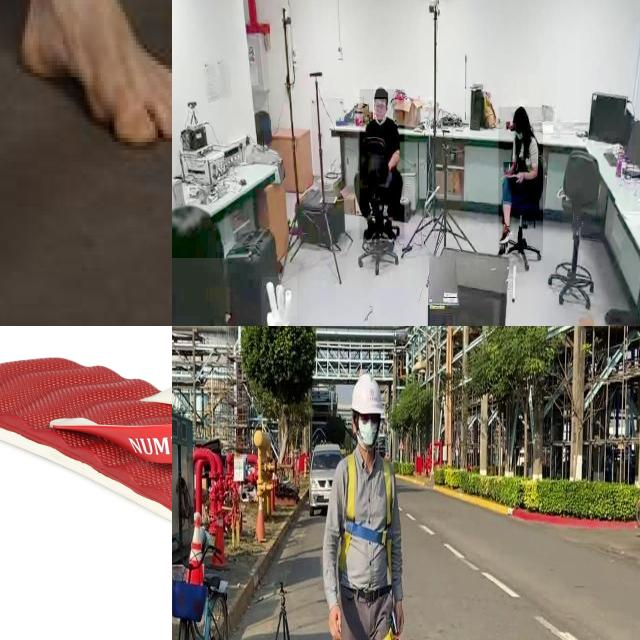Barefoots: (22, 0, 172, 145)
Harness: (340, 454, 394, 572)
Sandals: (0, 355, 172, 561)
face_nomask: (373, 99, 387, 120)
hand_glove: (261, 276, 296, 326)
hand_noglove: (514, 170, 526, 184), (504, 162, 516, 175)
head_nohelmet: (172, 205, 225, 259), (513, 105, 529, 120), (374, 86, 388, 98)
person: (172, 195, 300, 326), (359, 89, 405, 240), (498, 107, 544, 255)
shoes: (380, 216, 398, 246), (497, 215, 513, 248)
